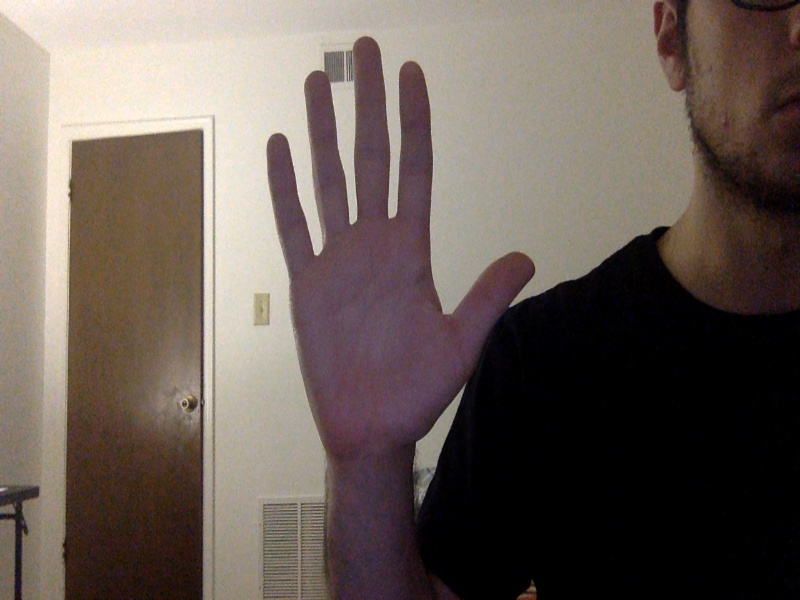5-hand: (266, 38, 536, 450)
